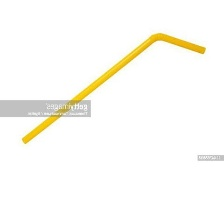drinking_straw: (18, 27, 210, 148)
